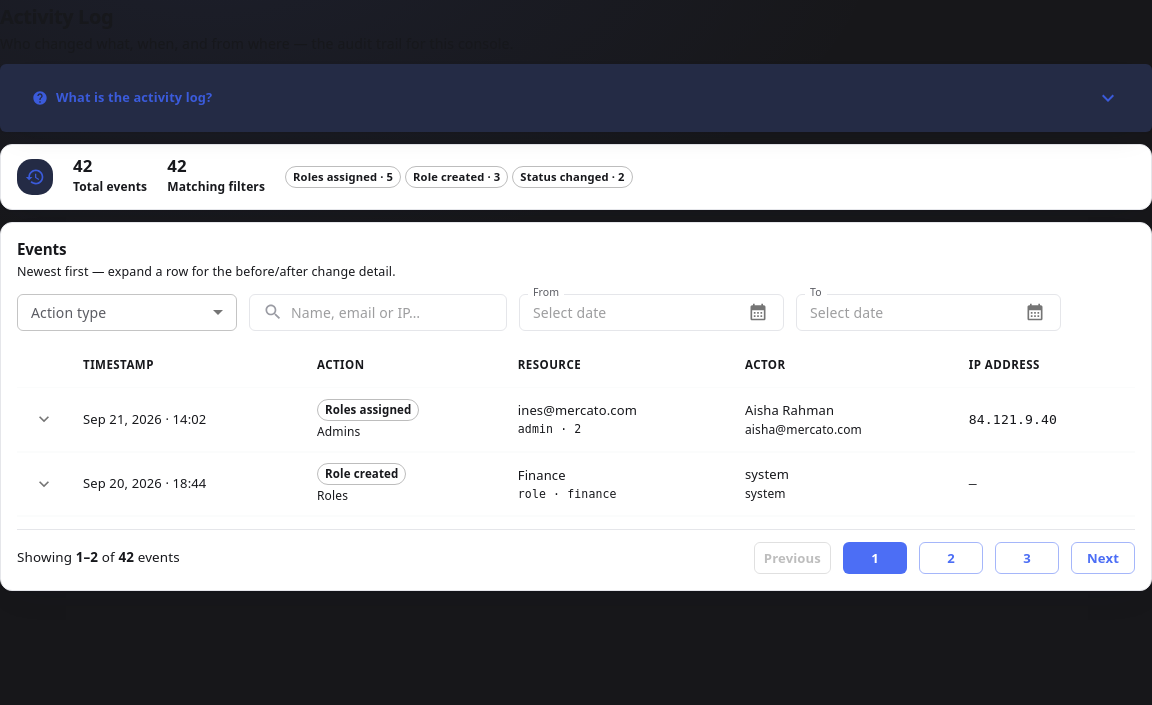
Test: ActivityView (live API wiring) › empty changes render the "no field changes" caption and user agent
Expected: the text "Finance" is shown, top-left (518, 466), bottom-right (566, 484)
Click the button named "Expand details for Role created". click: point(44, 484)
box: top-left (29, 469), bottom-right (59, 499)
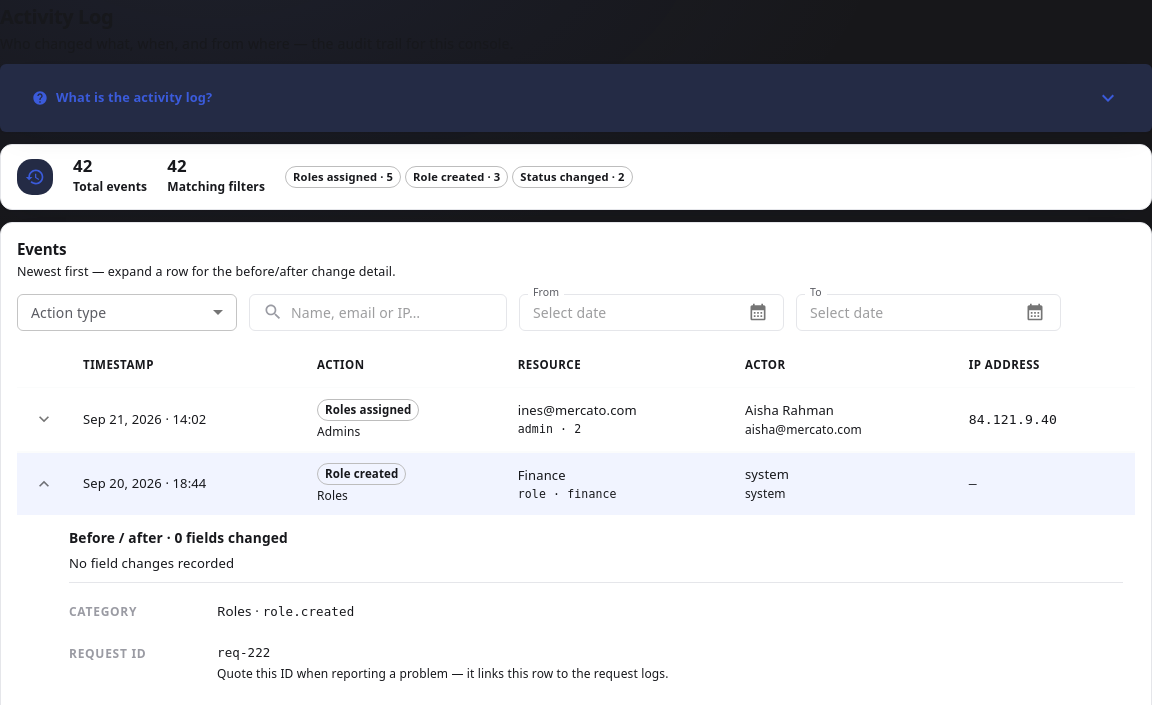
Expected: the text "No field changes recorded" is shown, top-left (69, 554), bottom-right (234, 572)
Expected: the text "req-222" is shown, top-left (217, 644), bottom-right (270, 660)
